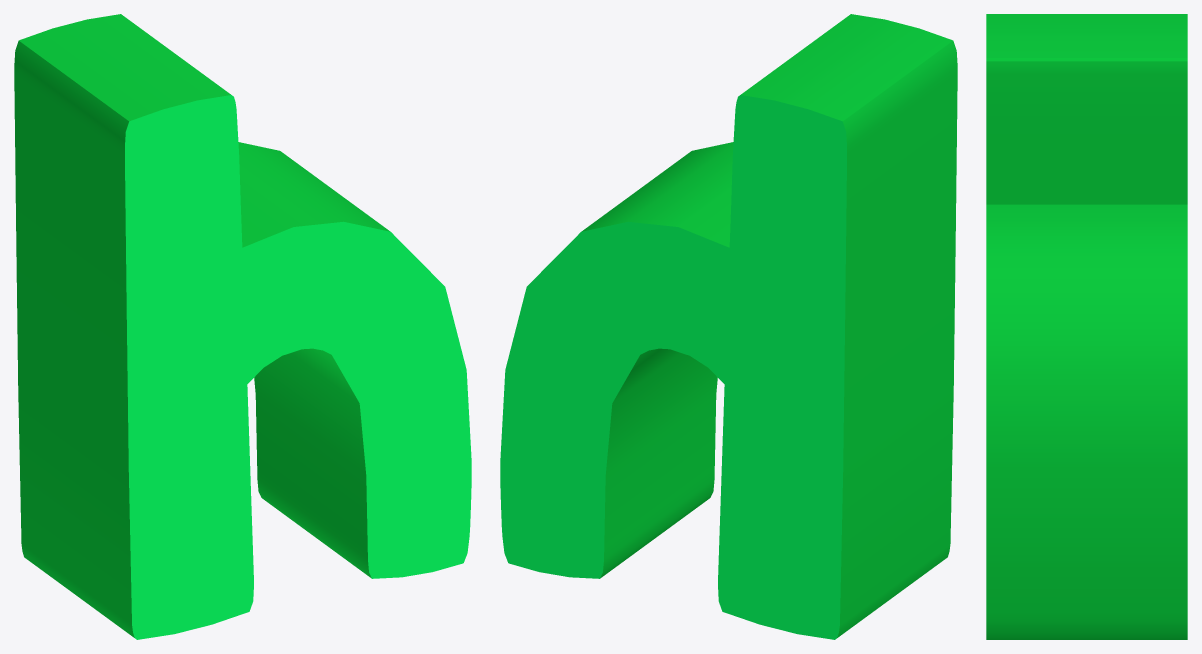
File: H_Zyzol_Green.glb
3 views of the same model, side by side, from view 1: azimuth 30°, elevation 25°; view 2: azimuth 150°, elevation 25°; view 3: azimuth 270°, elevation 25° (orthographic). The views are drawn at different scales.
Parts seen in each view (by area): view 1: h_Zyzol_Green; view 2: h_Zyzol_Green; view 3: h_Zyzol_Green.
Part boxes in pixels (x1=…): h_Zyzol_Green: x1=14, y1=14, x2=471, y2=639; h_Zyzol_Green: x1=500, y1=14, x2=957, y2=639; h_Zyzol_Green: x1=986, y1=14, x2=1187, y2=639.
Size of what is drawn, in the model's own units: 0.0815 by 0.1188 by 0.045.
2 materials, 2 textured.
